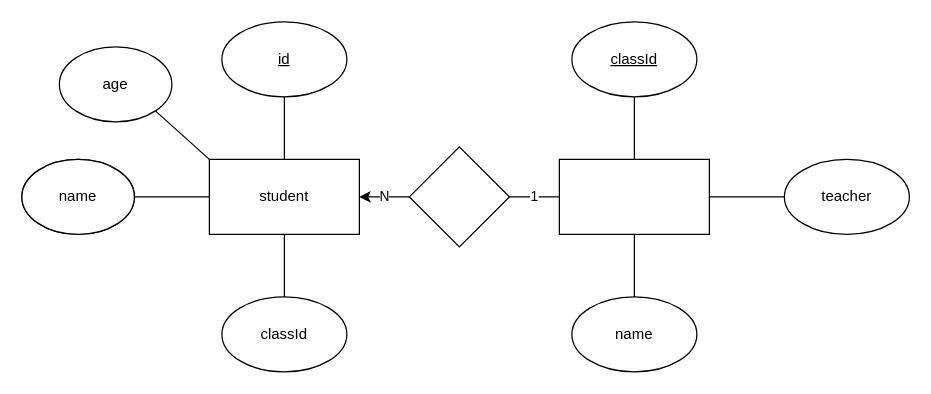
The diagram is 931 pixels wide and 394 high, and some of its shapes have lost their labels. Each missing label, with the centre of its shape:
"classroom" belongs at point 633,196.
"Có" belongs at point 458,196.
